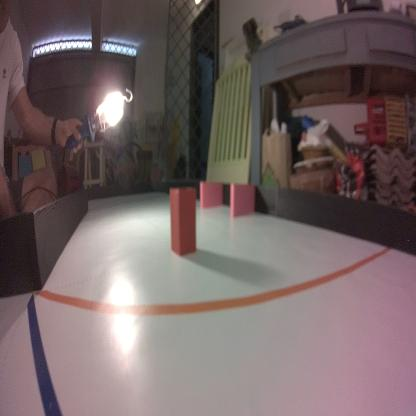magenta: (230, 183, 255, 215), (199, 178, 223, 208)
red: (168, 183, 196, 258)
